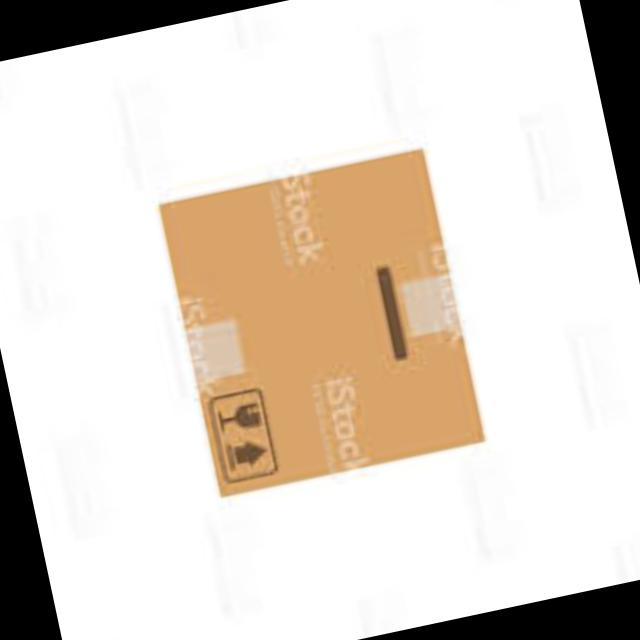cardboard paper: (164, 145, 485, 490)
